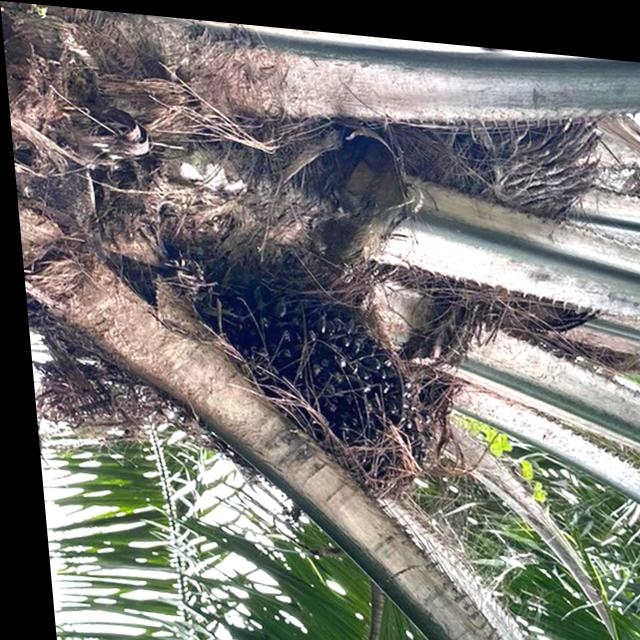unripe: (206, 255, 447, 511)
